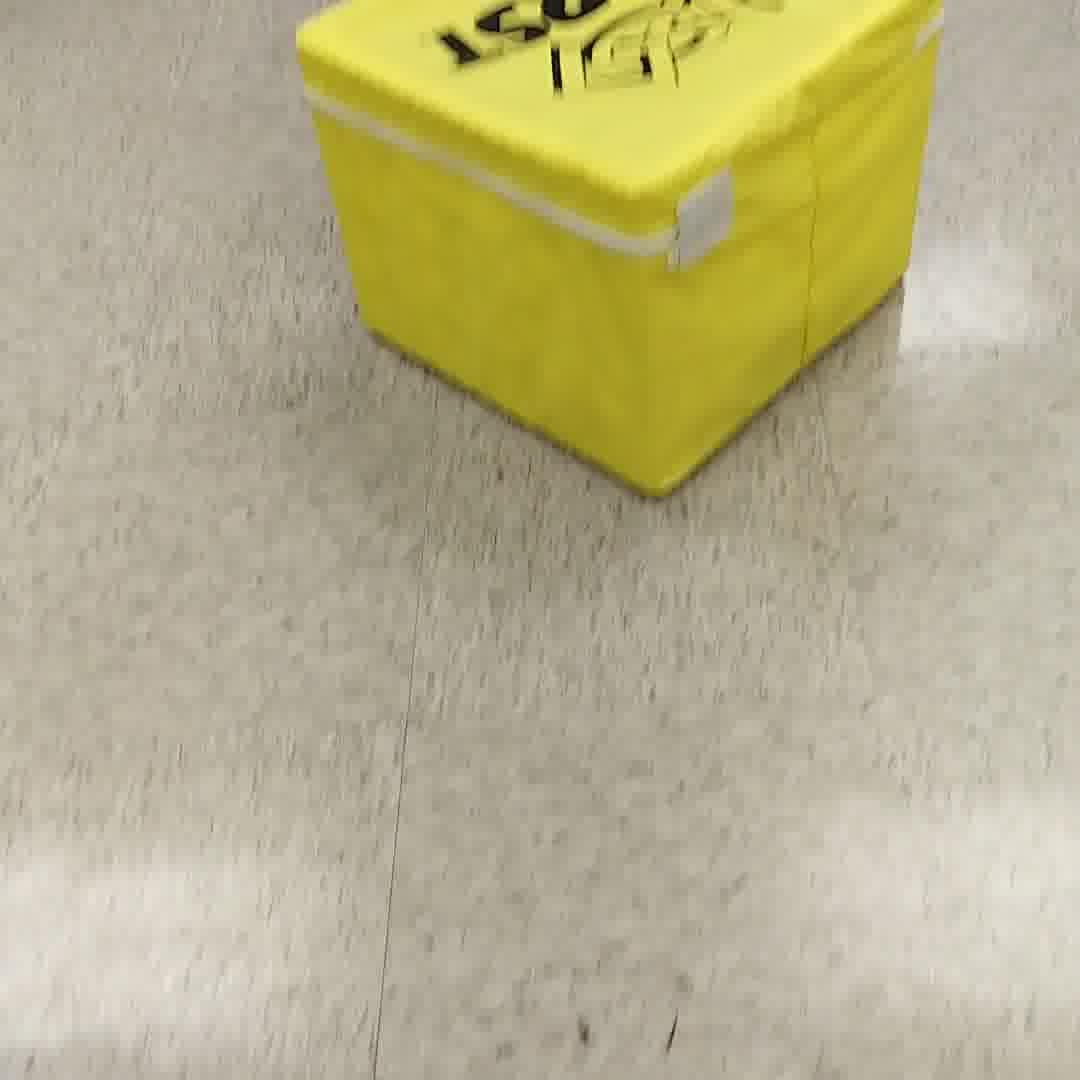box: (291, 3, 908, 509)
